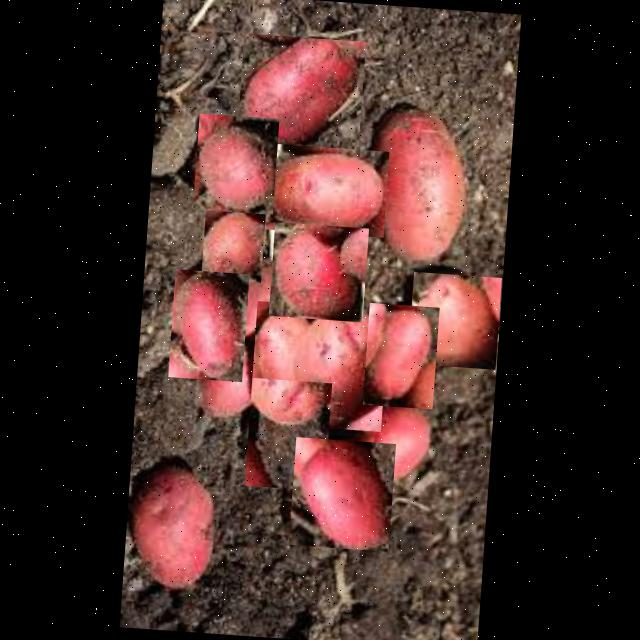Defected potato: (363, 100, 475, 268), (249, 300, 389, 430), (237, 32, 366, 150), (123, 452, 225, 595), (288, 436, 396, 550), (265, 142, 389, 236), (268, 221, 368, 321), (245, 376, 332, 489), (408, 270, 502, 368), (168, 268, 249, 380), (192, 112, 280, 213), (362, 301, 440, 408), (361, 397, 436, 495), (228, 254, 303, 344), (199, 337, 266, 425), (201, 200, 266, 282)
